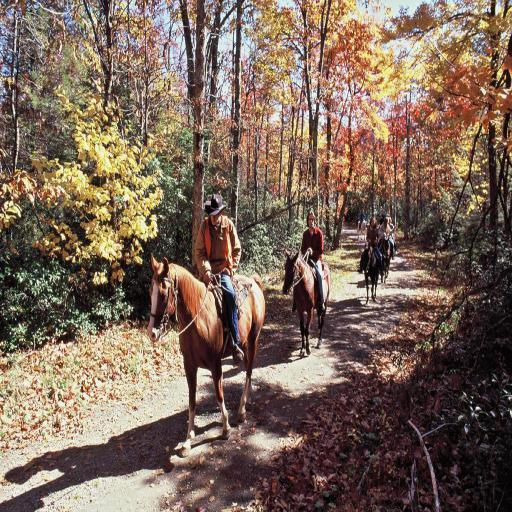horse: (146, 252, 266, 462), (284, 252, 330, 358), (361, 242, 381, 306), (379, 238, 391, 286)
